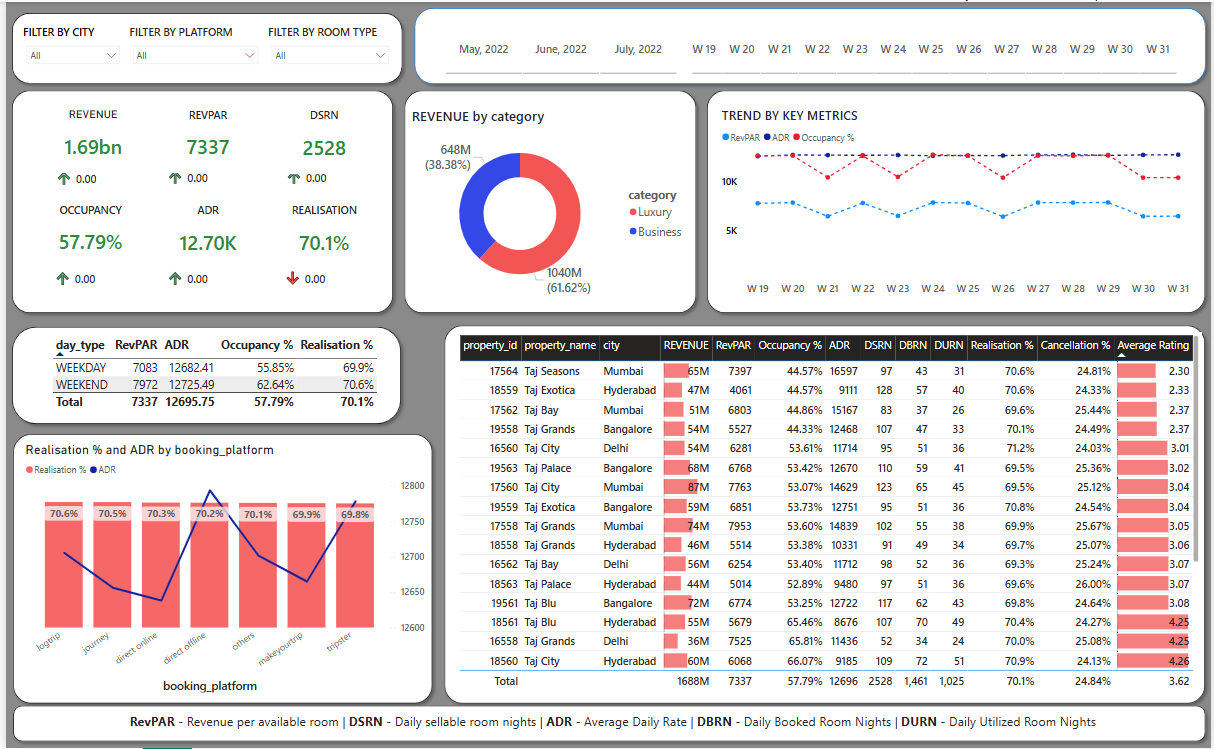

What the dashboard file says about the page in this screenshot:
{"tool":"powerbi","page":{"name":"Page 1","canvas":[1810,1120],"ordinal":0},"visuals":[{"type":"shape","box":[0,478,602,164],"z":0},{"type":"shape","box":[649.3,476.7,1159.8,585.5],"z":1000},{"type":"shape","box":[1044,124,766,352],"z":2000},{"type":"slicer","title":"FILTER BY CITY","fields":{"Values":["dimhotel.city"]},"box":[20,34,160,74],"z":3000,"group":"g1"},{"type":"shape","box":[590,124,456,352],"z":3000},{"type":"shape","box":[1.9,639.9,647.5,422.3],"z":4000},{"type":"slicer","title":"FILTER BY PLATFORM","fields":{"Values":["fact bookings.booking_platform"]},"box":[180,34,208,74],"z":5000,"group":"g1"},{"type":"shape","box":[0,124,590,352],"z":5000},{"type":"shape","box":[604,0,1206,132],"z":6000},{"type":"slicer","title":"FILTER BY ROOM TYPE","fields":{"Values":["dimrooms.room_class"]},"box":[388,34,196,74],"z":6000,"group":"g1"},{"type":"shape","box":[0,8,604,124],"z":7000},{"type":"tableEx","fields":{"Values":["KEY_MEASURES.Occupancy WoW change %"]},"box":[63.7,373.1,133,77.6],"z":8000,"group":"g2"},{"type":"tableEx","fields":{"Values":["dimhotel.property_id","dimhotel.property_name","dimhotel.city","KEY_MEASURES.REVENUE","KEY_MEASURES.RevPAR","KEY_MEASURES.Occupancy %","KEY_MEASURES.ADR","KEY_MEASURES.DSRN","KEY_MEASURES.DBRN","KEY_MEASURES.DURN","KEY_MEASURES.Realisation %","KEY_MEASURES.Cancellation %"]},"box":[675.6,495.4,1120.4,542.4],"z":8000},{"type":"slicer","fields":{"Values":["dimdate.WEEK NO"]},"box":[994,28,786,86],"z":9000},{"type":"tableEx","fields":{"Values":["KEY_MEASURES.ADR WoW change %"]},"box":[231.3,373.1,122.1,77.6],"z":9000,"group":"g2"},{"type":"donutChart","fields":{"Category":["dimhotel.category"],"Y":["KEY_MEASURES.REVENUE"]},"box":[604,158,426,294],"z":10000},{"type":"lineChart","title":"TREND BY KEY METRICS","fields":{"Y":["KEY_MEASURES.RevPAR","KEY_MEASURES.ADR"],"Category":["dimdate.WEEK NO","dimdate.mmm yy.Variation.Date Hierarchy.Month"],"Y2":["KEY_MEASURES.Occupancy %"]},"box":[1070,158,716,294],"z":11000},{"type":"tableEx","fields":{"Values":["KEY_MEASURES.Revenue WoW change %"]},"box":[65.5,222.4,131.2,71.7],"z":12000,"group":"g2"},{"type":"tableEx","fields":{"Values":["dimdate.day_type","KEY_MEASURES.RevPAR","KEY_MEASURES.ADR","KEY_MEASURES.Occupancy %","KEY_MEASURES.Realisation %"]},"box":[64,496,500,128],"z":12000},{"type":"lineStackedColumnComboChart","fields":{"Y":["KEY_MEASURES.Realisation %"],"Category":["fact bookings.booking_platform"],"Y2":["KEY_MEASURES.ADR"]},"box":[24.4,660.6,609.9,381],"z":13000},{"type":"slicer","fields":{"Values":["dimdate.mmm yy"]},"box":[634,28,396,86],"z":14000},{"type":"group","id":"g1","title":"Group 1","box":[20,34,564,74],"z":15000},{"type":"card","title":"OCCUPANCY","fields":{"Values":["KEY_MEASURES.Occupancy %"]},"box":[38.2,300,174.9,99.5],"z":15000,"group":"g2"},{"type":"shape","box":[2,1048,1808,72],"z":16000},{"type":"group","id":"g2","title":"Group 2","box":[20,158,546,294],"z":17000},{"type":"card","title":"ADR","fields":{"Values":["KEY_MEASURES.ADR"]},"box":[214.9,300,174.9,101],"z":17000,"group":"g2"},{"type":"textbox","box":[38,1062,1742,42],"z":18000},{"type":"tableEx","fields":{"Values":["KEY_MEASURES.Revpar WoW change %"]},"box":[231.3,222.4,134.8,77.6],"z":19000,"group":"g2"},{"type":"tableEx","fields":{"Values":["KEY_MEASURES.Revpar WoW change %"]},"box":[409.9,222.4,136.6,77.6],"z":20000,"group":"g2"},{"type":"card","title":"REVENUE","fields":{"Values":["KEY_MEASURES.REVENUE"]},"box":[20,158,220.4,99.5],"z":21000,"group":"g2"},{"type":"card","title":"REVPAR","fields":{"Values":["KEY_MEASURES.RevPAR"]},"box":[214.9,158,174.9,99.5],"z":22000,"group":"g2"},{"type":"card","title":"DSRN","fields":{"Values":["KEY_MEASURES.DSRN"]},"box":[389.8,158,174.9,101],"z":23000,"group":"g2"},{"type":"tableEx","fields":{"Values":["KEY_MEASURES.Realisation WoW change %"]},"box":[408,373.1,122.1,77.6],"z":24000,"group":"g2"},{"type":"card","title":"REALISATION","fields":{"Values":["KEY_MEASURES.Realisation %"]},"box":[389.8,300,174.9,101],"z":25000,"group":"g2"}]}

Visuals, with their boxes in screenshot pixels (x1, y1, x2, y2), scaled from the page's 1810x1120 canvas onto the 1214x749 screenshot:
shape: 0:320:404:429
shape: 435:319:1213:710
shape: 700:83:1213:318
"FILTER BY CITY" slicer: 13:23:121:72
shape: 396:83:702:318
shape: 1:428:436:710
"FILTER BY PLATFORM" slicer: 121:23:260:72
shape: 0:83:396:318
shape: 405:0:1213:88
"FILTER BY ROOM TYPE" slicer: 260:23:392:72
shape: 0:5:405:88
tableEx - KEY_MEASURES.Occupancy WoW change %: 43:250:132:301
tableEx - dimhotel.property_id x dimhotel.property_name: 453:331:1205:694
slicer - dimdate.WEEK NO: 667:19:1194:76
tableEx - KEY_MEASURES.ADR WoW change %: 155:250:237:301
donutChart - dimhotel.category x KEY_MEASURES.REVENUE: 405:106:691:302
"TREND BY KEY METRICS" lineChart: 718:106:1198:302
tableEx - KEY_MEASURES.Revenue WoW change %: 44:149:132:197
tableEx - dimdate.day_type x KEY_MEASURES.RevPAR: 43:332:378:417
lineStackedColumnComboChart - KEY_MEASURES.Realisation % x fact bookings.booking_platform: 16:442:425:697
slicer - dimdate.mmm yy: 425:19:691:76
"Group 1" group: 13:23:392:72
"OCCUPANCY" card: 26:201:143:267
shape: 1:701:1213:748
"Group 2" group: 13:106:380:302
"ADR" card: 144:201:261:268
textbox: 25:710:1194:738
tableEx - KEY_MEASURES.Revpar WoW change %: 155:149:246:201
tableEx - KEY_MEASURES.Revpar WoW change %: 275:149:367:201
"REVENUE" card: 13:106:161:172
"REVPAR" card: 144:106:261:172
"DSRN" card: 261:106:379:173
tableEx - KEY_MEASURES.Realisation WoW change %: 274:250:356:301
"REALISATION" card: 261:201:379:268
